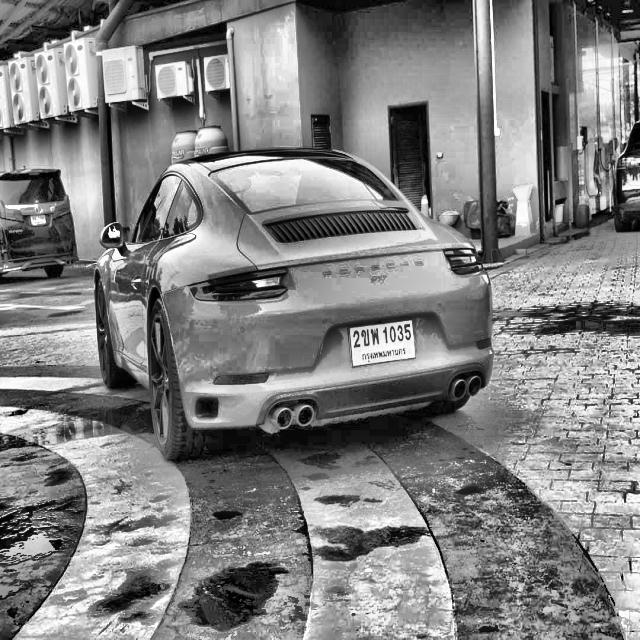license-plate: (341, 310, 422, 371)
